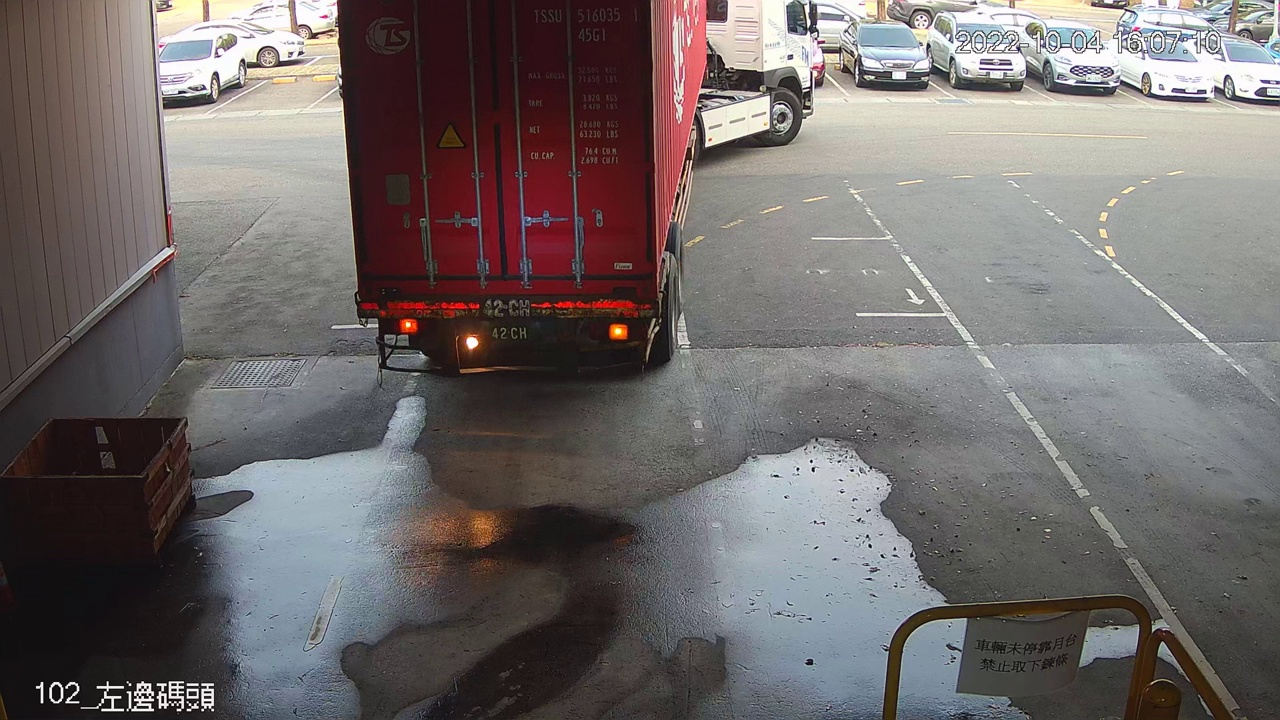container: (528, 3, 645, 47)
